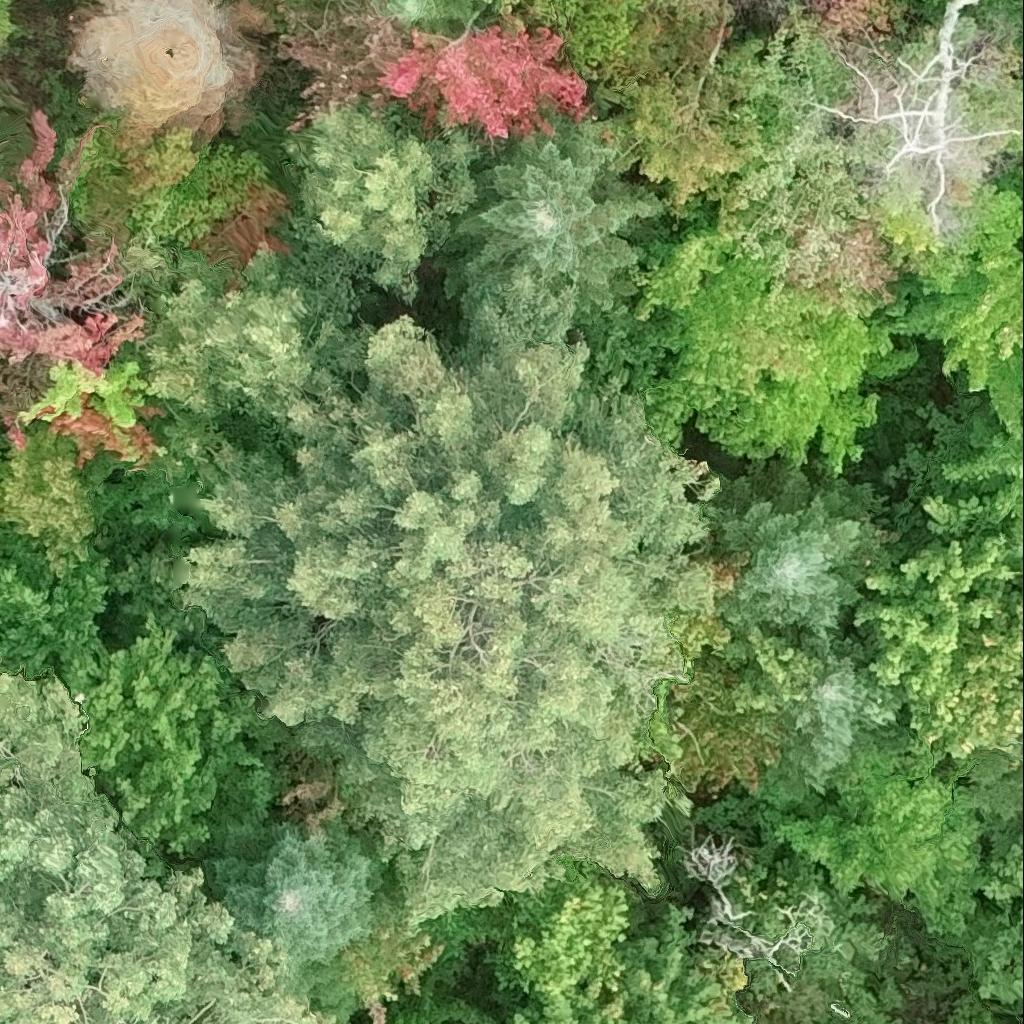crown: (180, 265, 724, 928), (0, 522, 286, 857), (572, 205, 916, 480), (0, 671, 193, 1023), (129, 245, 379, 476), (723, 0, 897, 324), (0, 109, 147, 450), (760, 719, 990, 934), (435, 113, 665, 327), (854, 497, 1023, 762), (488, 860, 759, 1023), (845, 0, 1023, 237), (73, 868, 338, 1023), (282, 95, 480, 302), (278, 15, 586, 139), (881, 180, 1023, 441), (599, 5, 761, 226), (687, 467, 876, 640), (214, 814, 379, 976), (769, 630, 906, 803), (681, 836, 829, 975), (896, 411, 1023, 555), (0, 422, 117, 578), (718, 624, 822, 752), (968, 840, 1023, 1002), (52, 406, 155, 468), (384, 0, 473, 46), (982, 0, 1023, 46), (1003, 128, 1023, 156), (396, 1011, 417, 1023), (1015, 90, 1023, 112)
